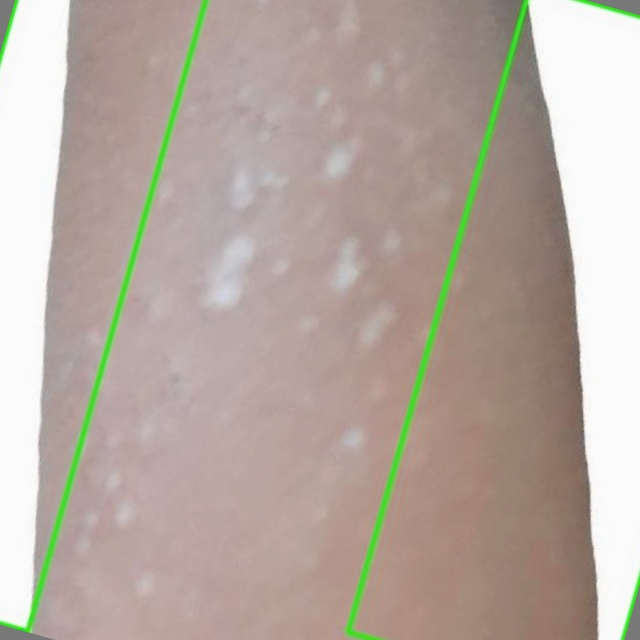Scabies: (347, 0, 639, 639)
